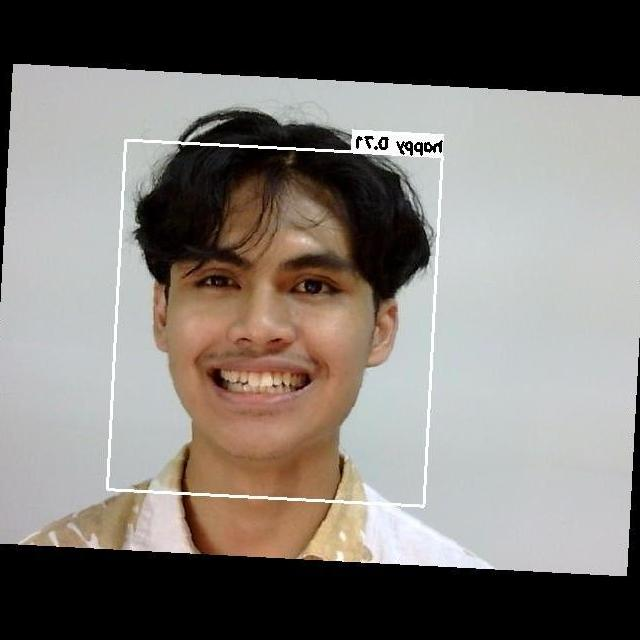Happy: (155, 210, 371, 448)
